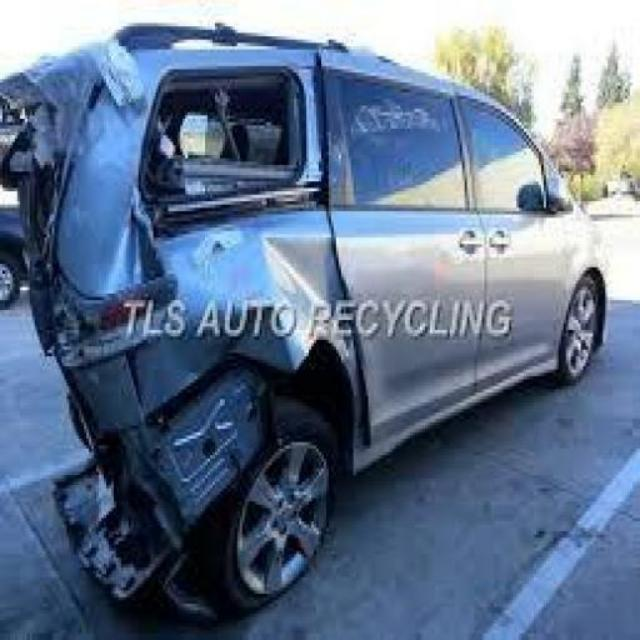crash: (0, 33, 373, 627)
